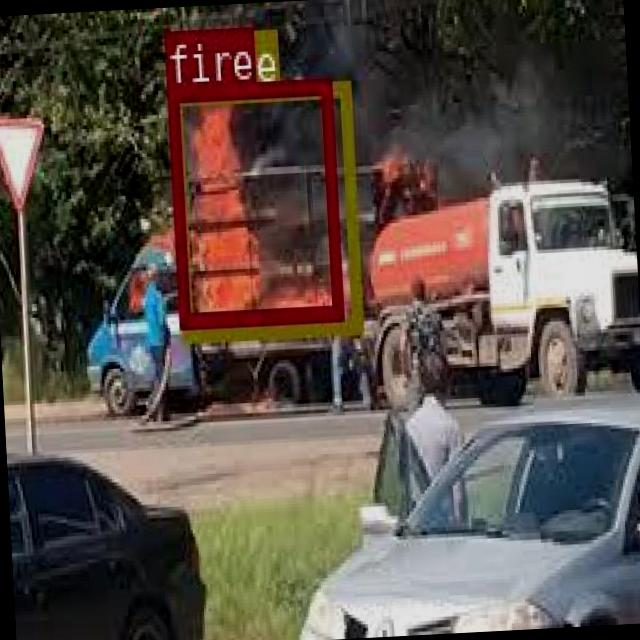fire: (165, 78, 341, 326)
smoke: (168, 80, 362, 339)
